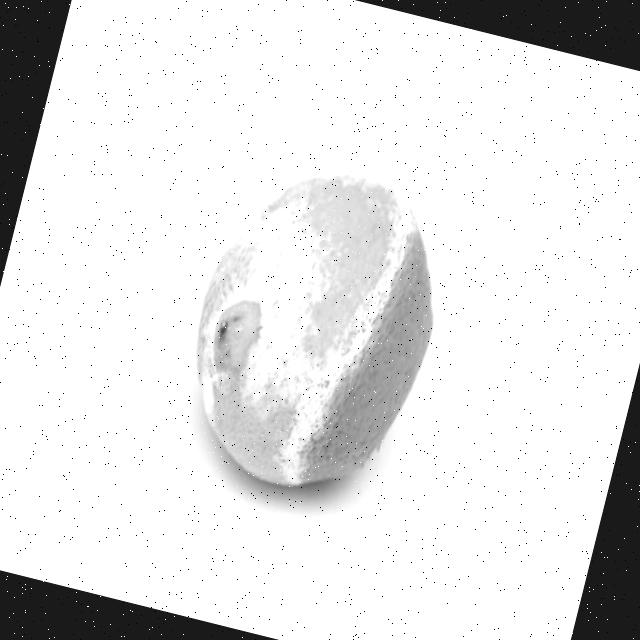Rotten: (161, 140, 466, 513)
